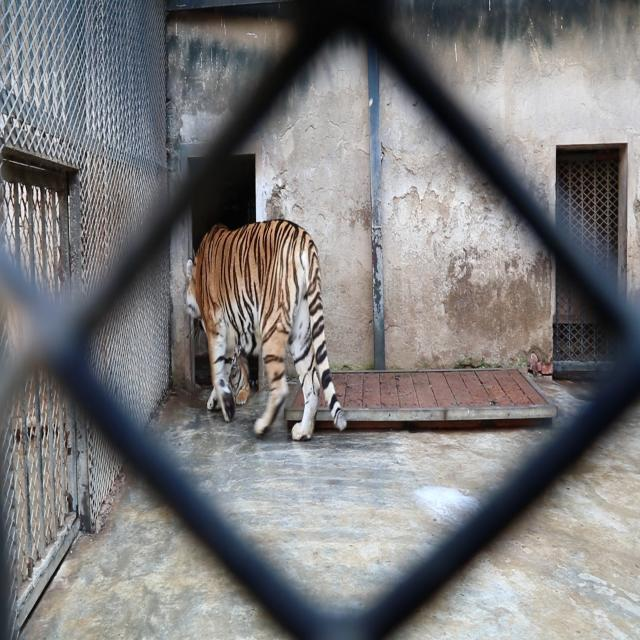Tiger: (181, 213, 344, 454)
